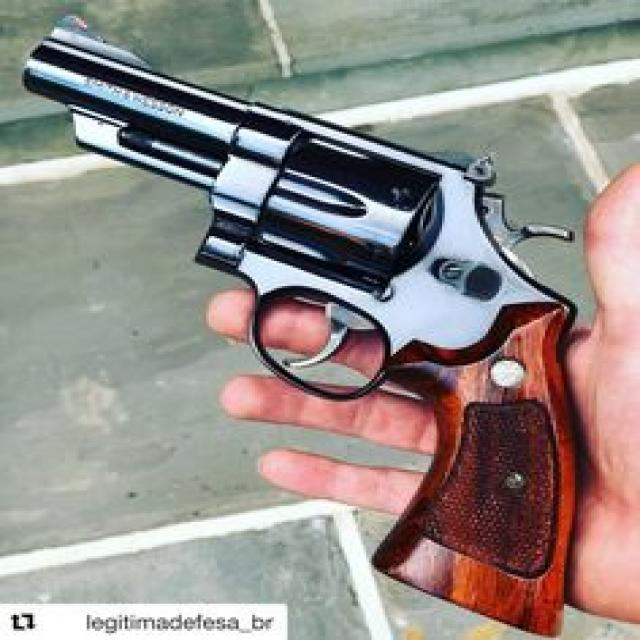revolver: (11, 13, 638, 640)
